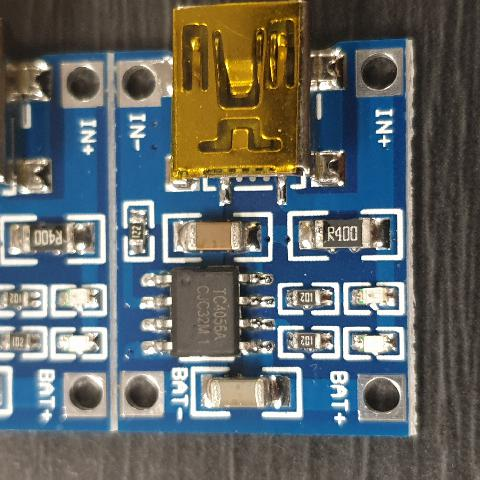batt+: (354, 376, 398, 418), (66, 372, 105, 416)
batt-: (120, 372, 160, 418)
charge: (344, 286, 408, 314), (46, 286, 98, 318)
done: (344, 328, 400, 359), (49, 328, 97, 358)
rprog: (121, 198, 144, 258)
usb: (168, 7, 309, 168)
